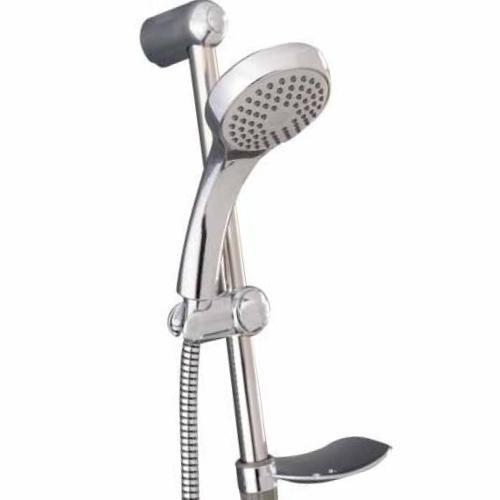Ducha: (135, 0, 403, 499)
